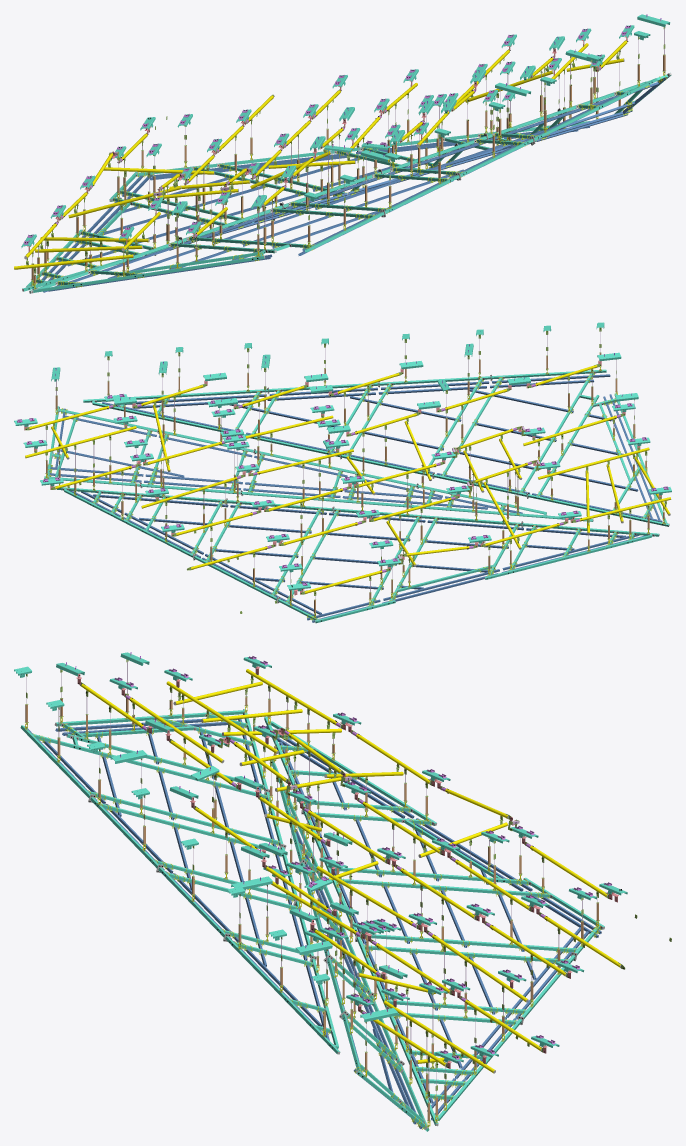
The model's file is soffit-11.glb.
3 renders of one model, top to bottom at view 1: azimuth 30°, elevation 25°; view 2: azimuth 150°, elevation 25°; view 3: azimuth 270°, elevation 25°, orthographic. The views are drawn at different scales.
Bounding box in the file's own units: 18.38 × 4.8 × 13.28.
